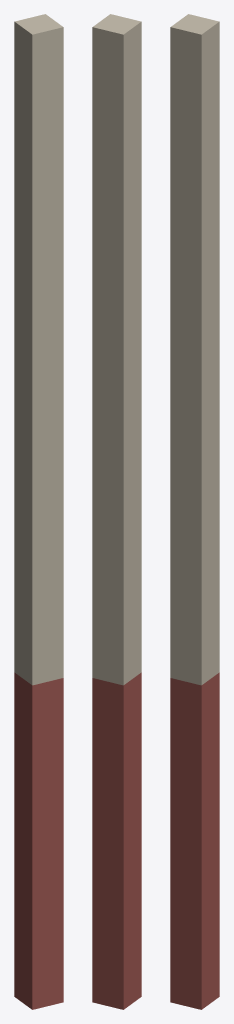
Rendered from Mesh_Wall2Colors_D5.fbx.
The picture shows the model from 3 angles, left to right: view 1: azimuth 30°, elevation 25°; view 2: azimuth 150°, elevation 25°; view 3: azimuth 330°, elevation 25°; orthographic projection.
Visible parts, largest first — view 1: Mesh_Wall2Colors_D5; view 2: Mesh_Wall2Colors_D5; view 3: Mesh_Wall2Colors_D5.
Part boxes in pixels (<box>): Mesh_Wall2Colors_D5: <box>14,14,63,1009</box>; Mesh_Wall2Colors_D5: <box>92,14,141,1009</box>; Mesh_Wall2Colors_D5: <box>170,14,219,1009</box>.
Bounding box in the file's own units: 0.1 × 3 × 0.1.
